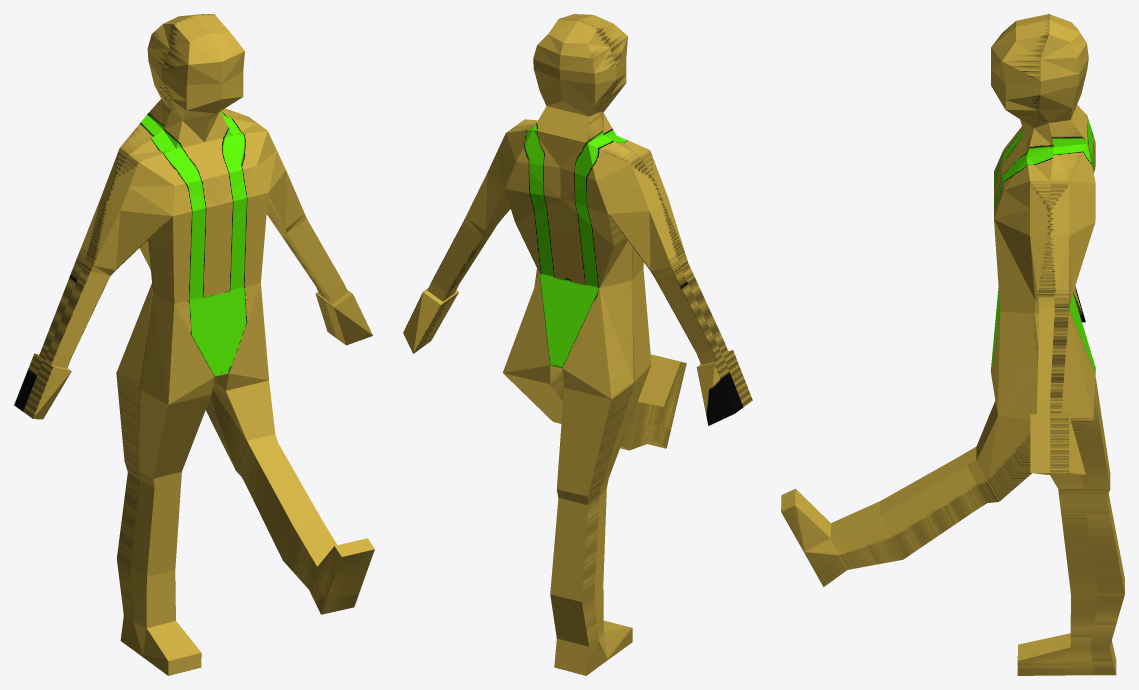
The picture shows the model from 3 angles, left to right: view 1: azimuth 30°, elevation 25°; view 2: azimuth 150°, elevation 25°; view 3: azimuth 270°, elevation 25°; orthographic projection. The views are drawn at different scales.
Visible parts, largest first — view 1: Borat; view 2: Borat; view 3: Borat.
Boxes of the visible parts, x1,y1,x2,y2 form: Borat: [14, 14, 374, 675]; Borat: [403, 14, 752, 675]; Borat: [781, 14, 1124, 675].
Bounding box in the file's own units: 1.79 × 3.21 × 1.52.
